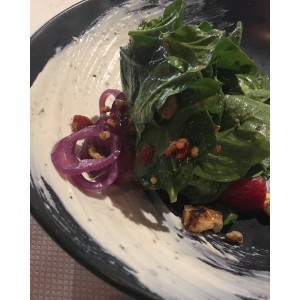spinach_brain food: (130, 20, 246, 207)
